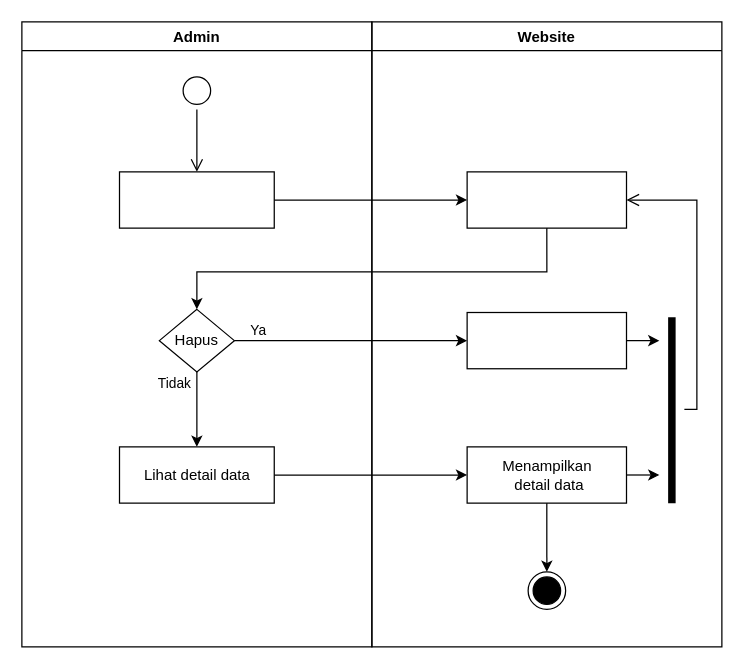
This 744x669 diagram has some shape labels left out. The shapes that lost their labels are listed below. From the top down, each one's centre as x and y in pixels, then its label:
At pixel 196 199: "Akses halaman riwayat pelatihan".
At pixel 546 199: "Menampilkan halaman riwayat pelatihan".
At pixel 546 340: "Hapus data dari database".
